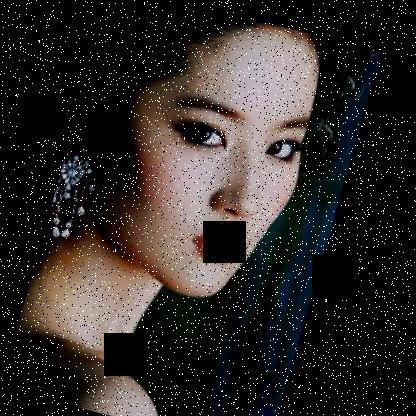Female: (36, 2, 338, 312)
